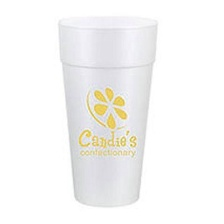paper_cup: (53, 11, 162, 212)
